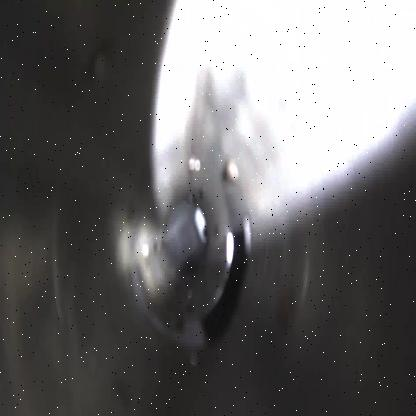Crack2: (202, 220, 254, 348)
